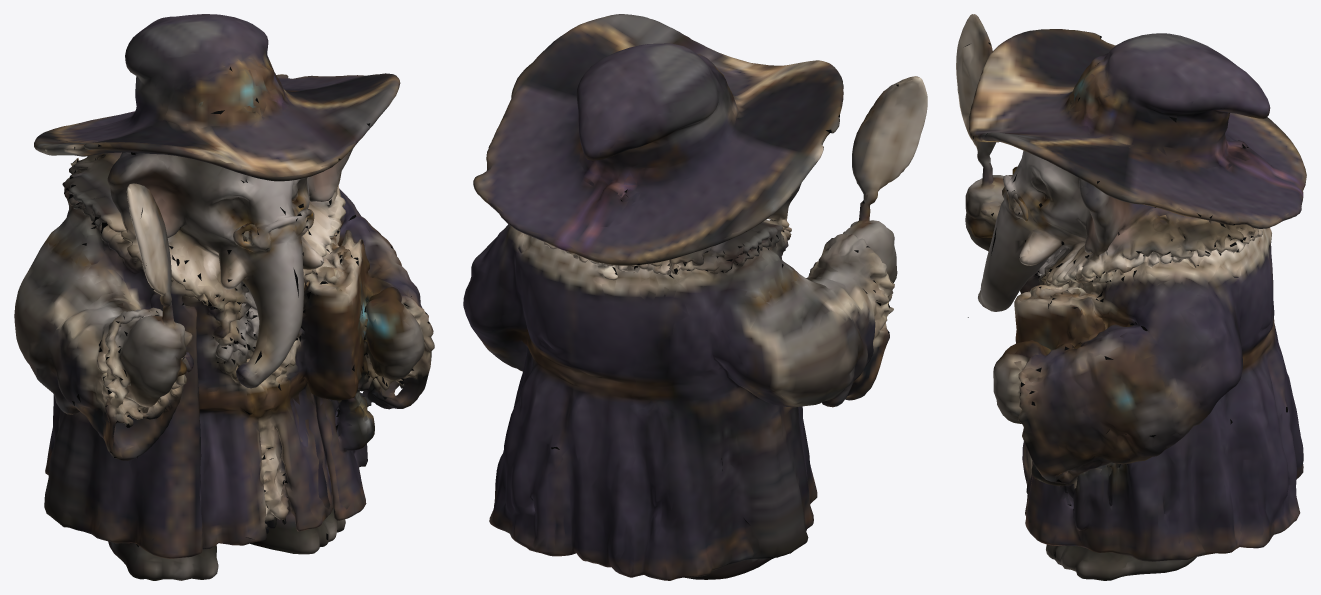
The model's file is review-elephant-90357430baa2.glb.
3 renders of one model, left to right at view 1: azimuth 30°, elevation 25°; view 2: azimuth 150°, elevation 25°; view 3: azimuth 270°, elevation 25°, orthographic. The views are drawn at different scales.
Visible parts, largest first — view 1: elephant-memory | textured review; view 2: elephant-memory | textured review; view 3: elephant-memory | textured review.
Part boxes in pixels (x1,y1,x2,y2): elephant-memory | textured review: (14,14,434,580); elephant-memory | textured review: (463,14,927,580); elephant-memory | textured review: (956,14,1306,580).
Bounding box in the file's own units: 1.74 × 2.3 × 1.5.
Materials: 1 (1 with a texture image).
